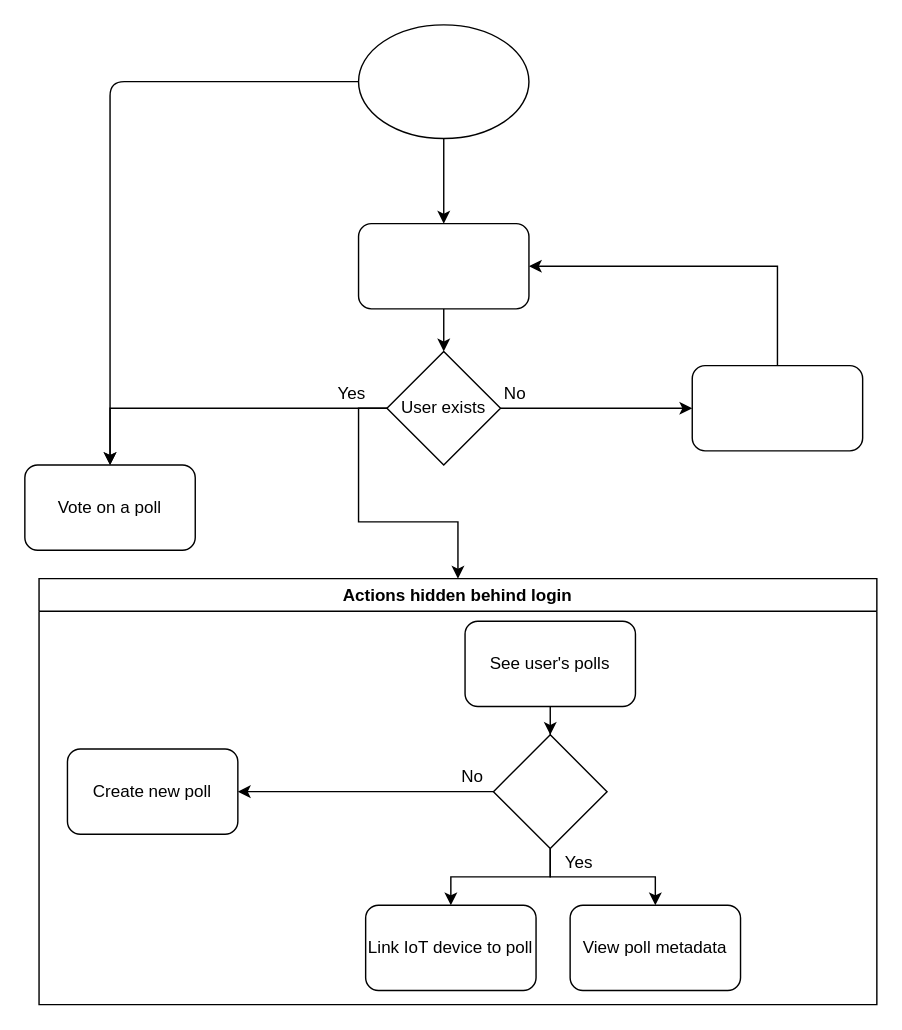
This 902x1030 diagram has some shape labels left out. The centre of each missing label's shape, as x and y in pixels:
"Create new user" belongs at (777,407).
"Has polls" belongs at (549,790).
"Log in" belongs at (443,265).
"Start" belongs at (443,80).
